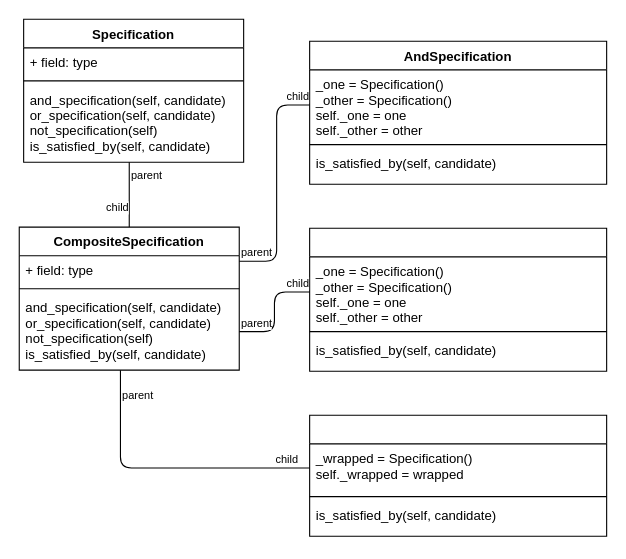
Some shapes in this 626 by 559 pixel diagram are drawn without their labels. The shapes that lost their labels are listed below. From the top down, each one's box as (x1, y1, x2, y2) in pixels, then its label:
(309, 227, 607, 371): OrSpecification
(309, 414, 607, 536): NotSpecification
